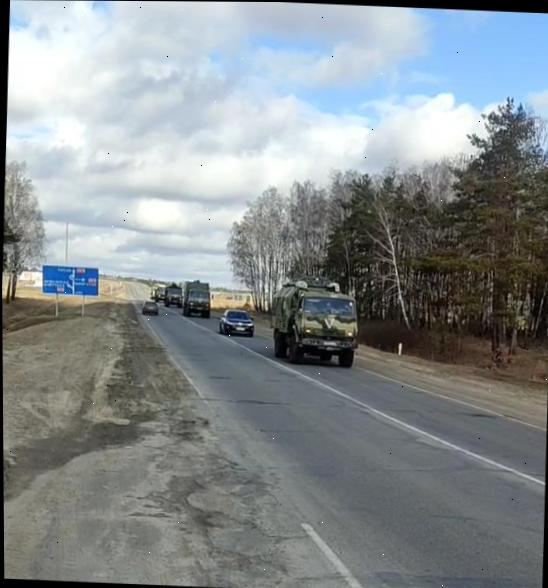car: (222, 307, 255, 339), (141, 302, 158, 317)
truck: (269, 279, 361, 376), (182, 278, 214, 318), (166, 281, 182, 309)
